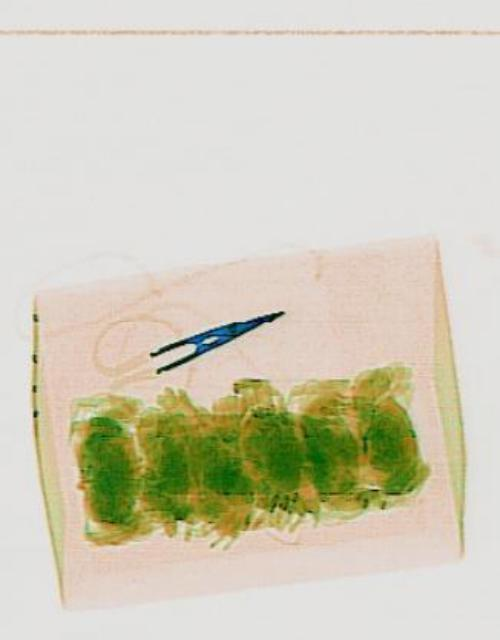Knife: (143, 298, 283, 374)
